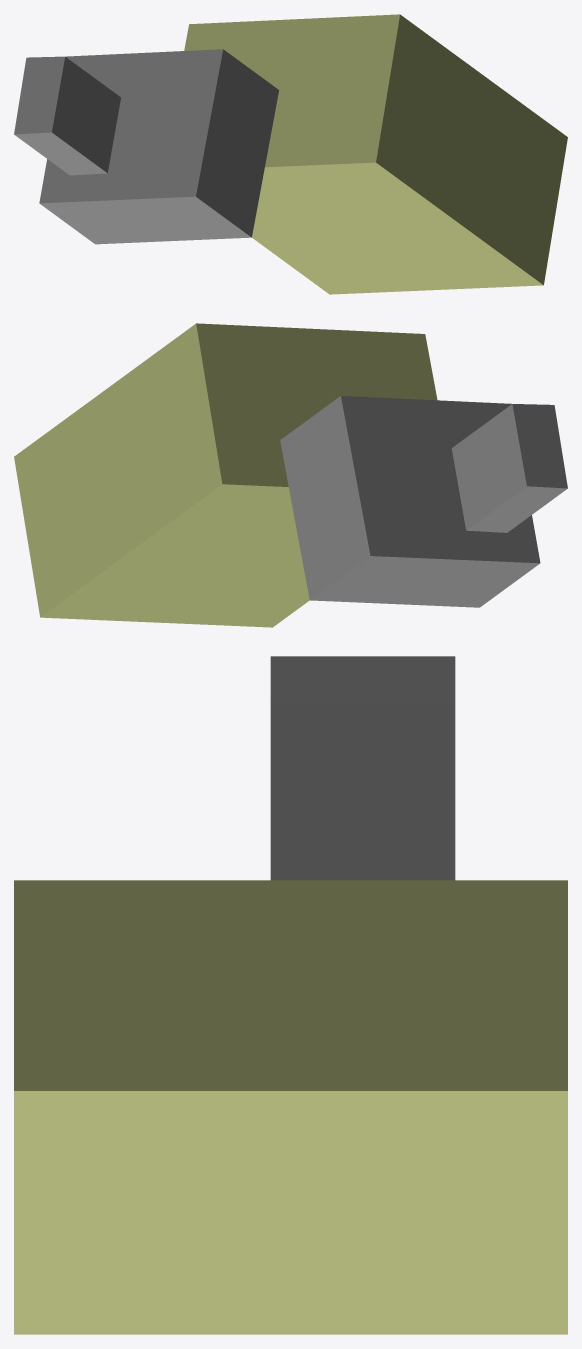
The picture shows the model from 3 angles, top to bottom: view 1: azimuth 30°, elevation 25°; view 2: azimuth 150°, elevation 25°; view 3: azimuth 270°, elevation 25°; orthographic projection. The views are drawn at different scales.
Visible parts, largest first — view 1: 0_1_2_0_3_3_2_0_1_3_1; view 2: 0_1_2_0_3_3_2_0_1_3_1; view 3: 0_1_2_0_3_3_2_0_1_3_1.
Boxes of the visible parts, bbox=[...] form: 0_1_2_0_3_3_2_0_1_3_1: bbox=[14, 14, 567, 294]; 0_1_2_0_3_3_2_0_1_3_1: bbox=[14, 323, 567, 627]; 0_1_2_0_3_3_2_0_1_3_1: bbox=[14, 656, 567, 1334].
Bounding box in the file's own units: 13.01 × 6.62 × 9.
